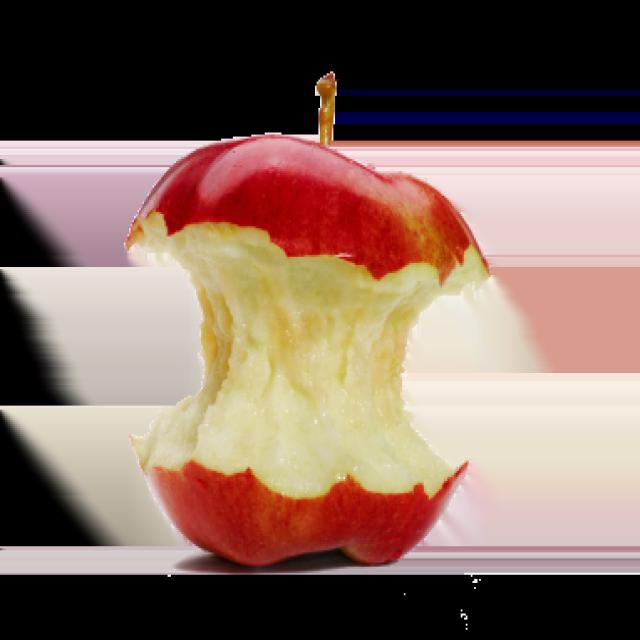apple_fruit: (96, 43, 541, 588)
